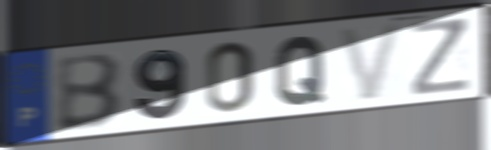0: (203, 39, 258, 117)
9: (130, 45, 189, 125)
B: (53, 50, 124, 134)
Q: (273, 33, 328, 108)
V: (337, 21, 406, 104)
Z: (408, 14, 474, 98)
